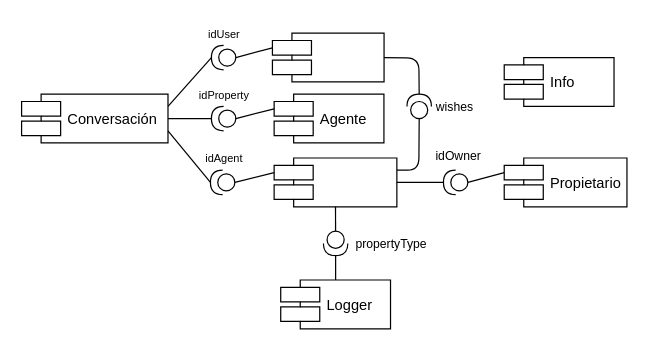
Some shapes in this 649 by 350 pixel diagram are drawn without their labels. The shapes that lost their labels are listed below. From the top down, each one's centre as x and y in pixels, then its label:
At pixel 327 57: "Usuario".
At pixel 335 182: "Propiedad".
